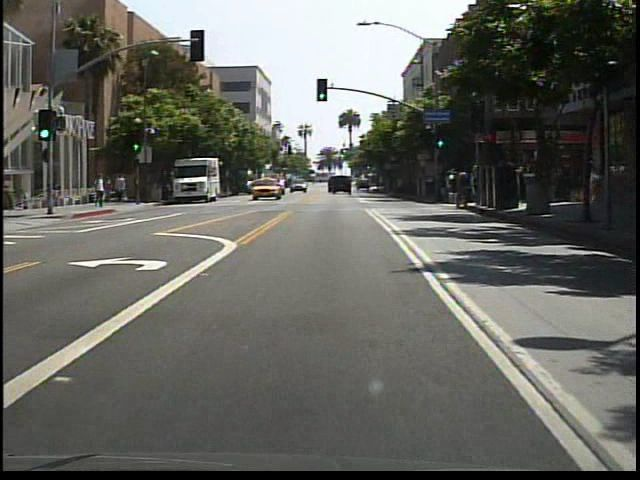person: (114, 171, 130, 203), (95, 173, 108, 210), (43, 183, 59, 210), (105, 175, 118, 204)
